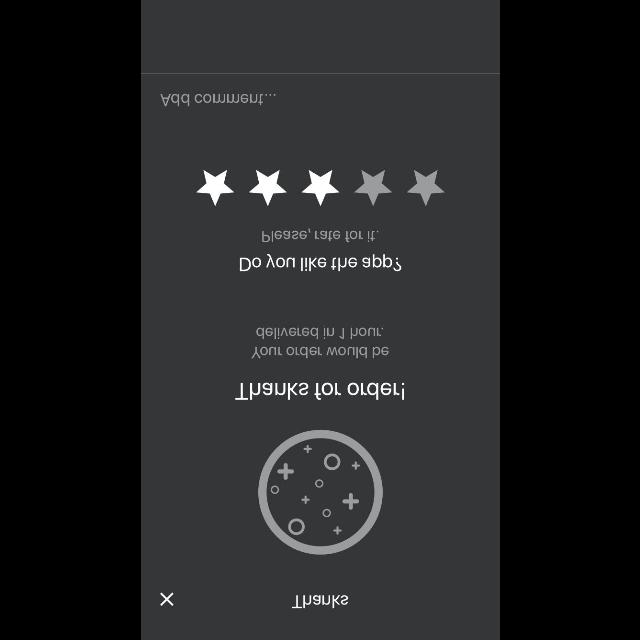icon: (196, 170, 446, 207), (158, 592, 174, 606)
image: (258, 430, 382, 554)
text: (250, 327, 388, 359), (235, 382, 405, 400), (239, 254, 401, 272), (261, 229, 379, 243), (160, 94, 276, 106), (290, 594, 348, 608)
